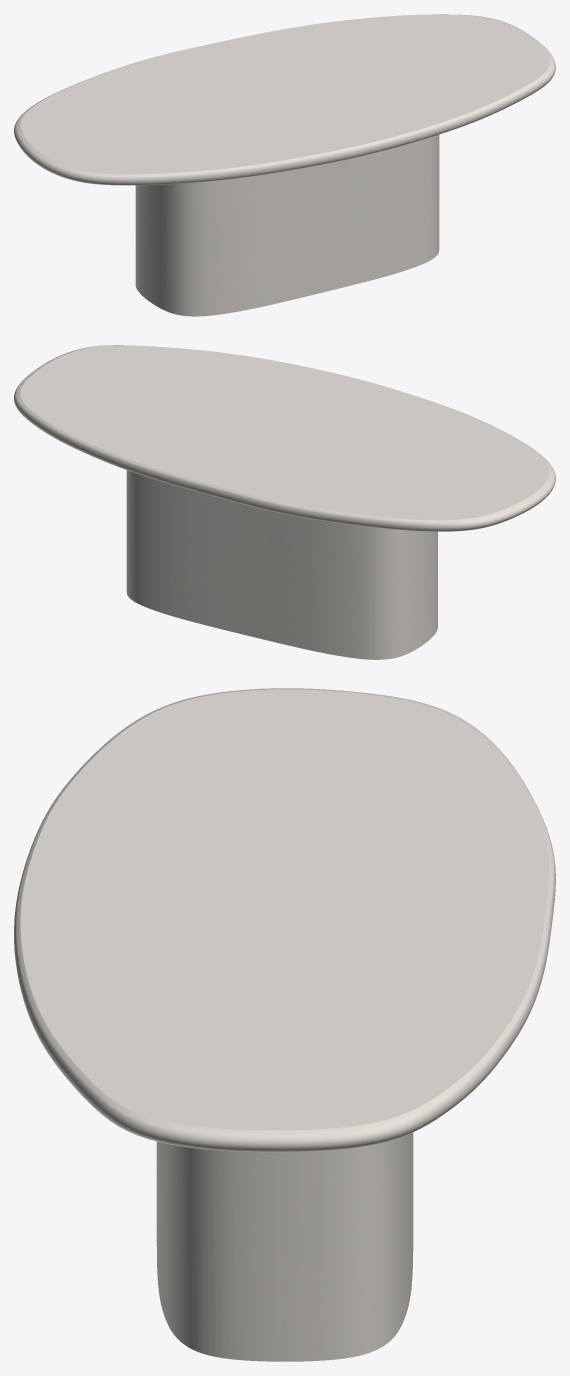
File: pearlwhite_danish_round_fixed.glb
The picture shows the model from 3 angles, top to bottom: view 1: azimuth 30°, elevation 25°; view 2: azimuth 150°, elevation 25°; view 3: azimuth 270°, elevation 25°; orthographic projection. The views are drawn at different scales.
Parts seen in each view (by area): view 1: round_danish, fixed; view 2: round_danish, fixed; view 3: round_danish, fixed.
Boxes of the visible parts, x1,y1,x2,y2 form: round_danish: (14, 14, 555, 185); fixed: (135, 134, 439, 316); round_danish: (14, 345, 555, 531); fixed: (126, 470, 437, 659); round_danish: (14, 688, 555, 1152); fixed: (156, 1132, 413, 1361).
Bounding box in the file's own units: 7.5 × 2.5 × 3.8.
1 material, 1 textured.
